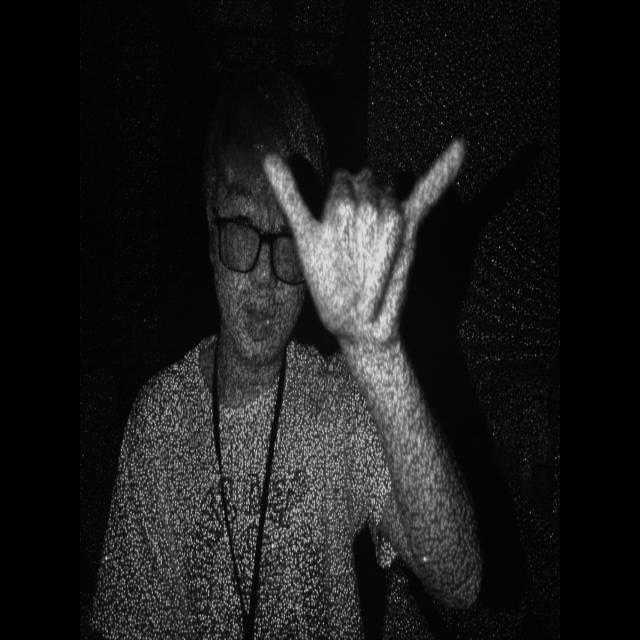Y: (260, 122, 473, 365)
